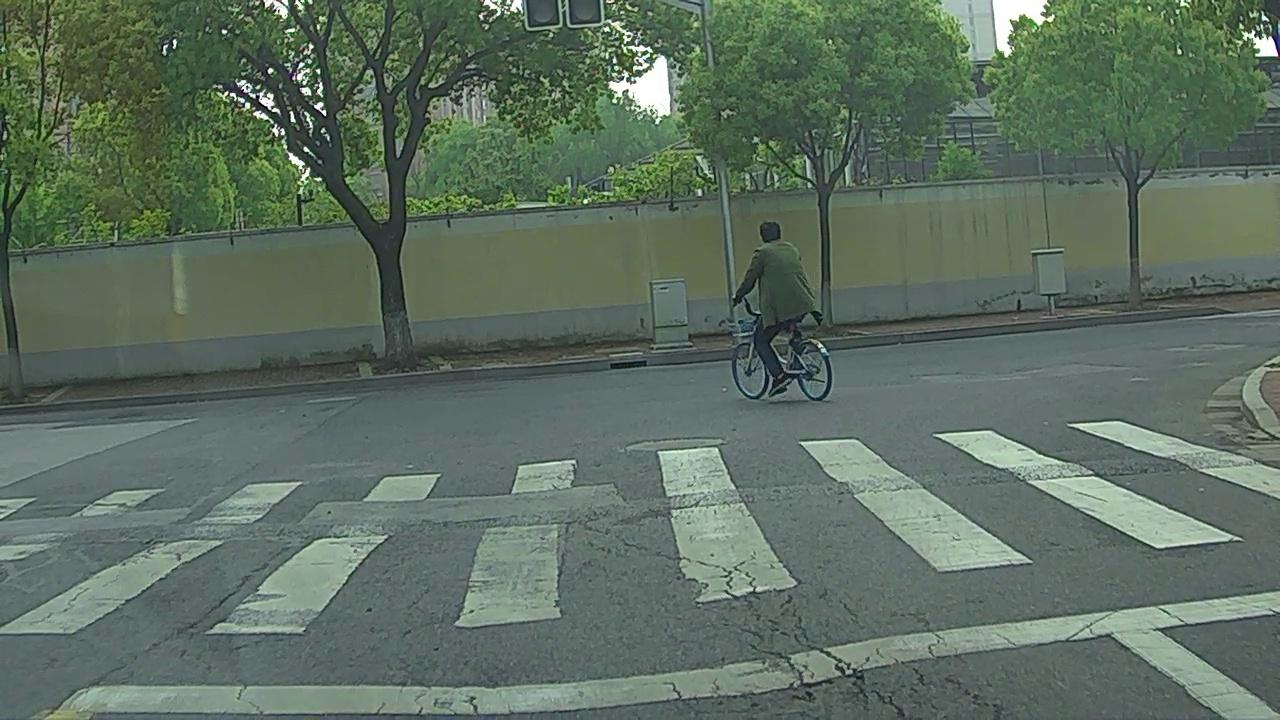traffic_light: (527, 1, 557, 25), (568, 3, 601, 22)
